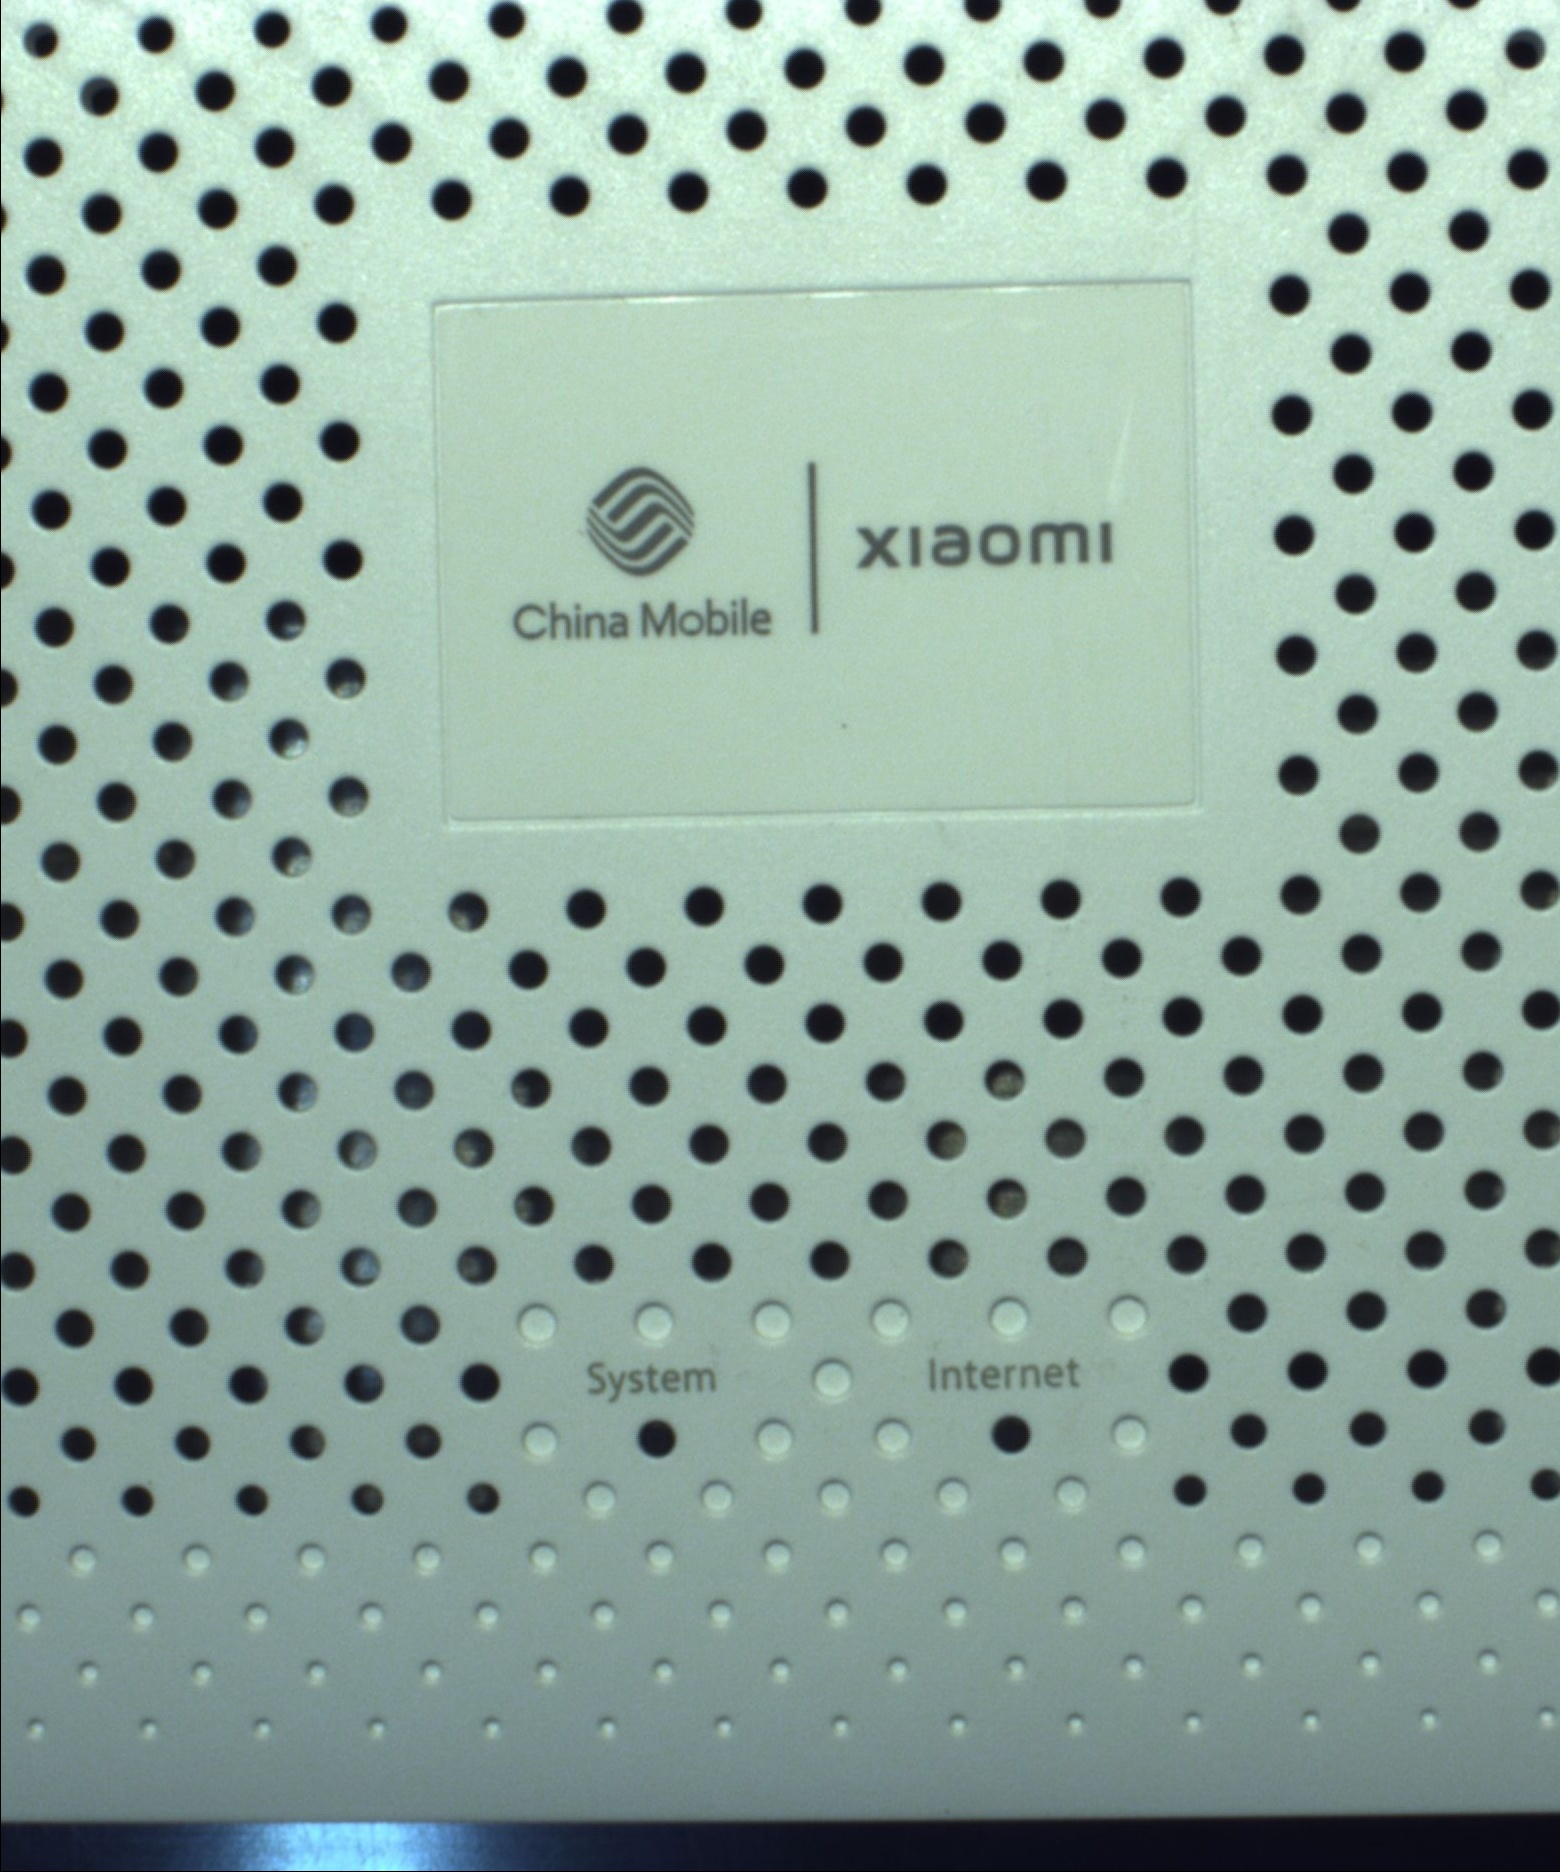MAD_ChinaMobile: (504, 456, 1117, 681)
